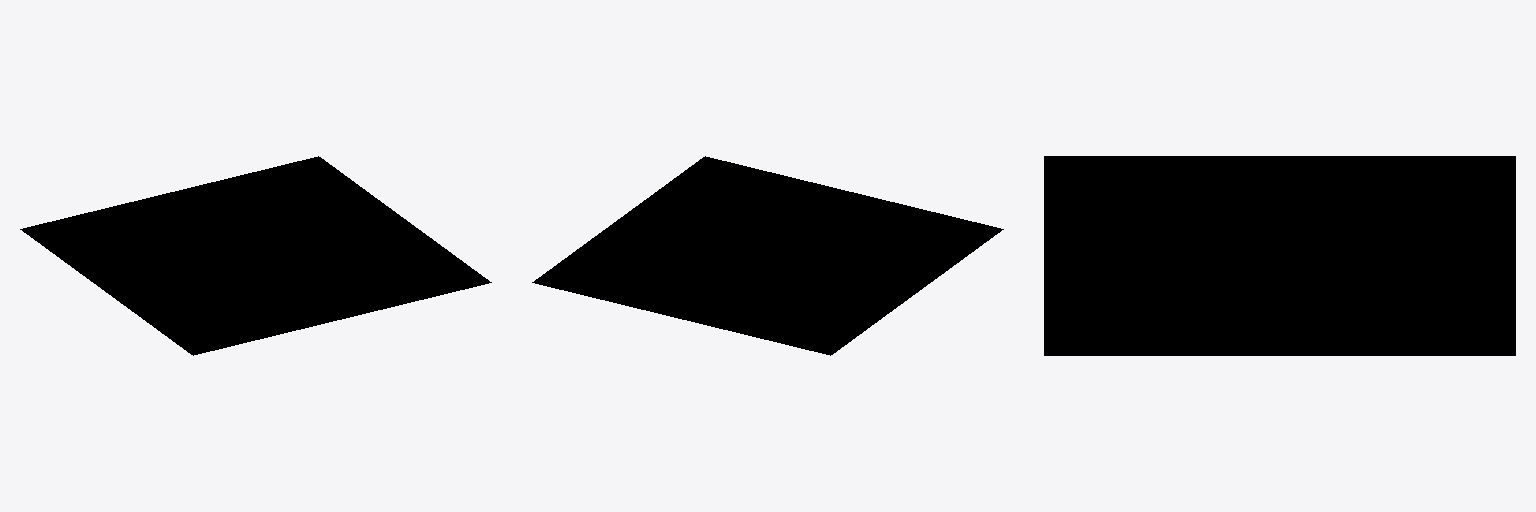
robot.urdf — plane:
<?xml version="0.0" ?>
<robot name="plane">
  <link name="planeLink">
  <contact>
      <lateral_friction value="1"/>
  </contact>
    <inertial>
      <origin rpy="0 0 0" xyz="0 0 0"/>
       <mass value=".0"/>
       <inertia ixx="0" ixy="0" ixz="0" iyy="0" iyz="0" izz="0"/>
    </inertial>
    <visual>
      <origin rpy="0 0 0" xyz="0 0 0"/>
      <geometry>
				<box size="6.5 6.5 0.01"/>
      </geometry>
       <material name="white">
        <color rgba="0 0 0 1"/>
      </material>
    </visual>
    <collision>
      <origin rpy="0 0 0" xyz="0 0 0"/>
      <geometry>
	 	<box size="6.5 6.5 0.03"/>
      </geometry>
    </collision>
  </link>
</robot>

--- What the picture shows (computed from the rendered views, not written in the file) ---
3 views of the same robot in one strip: view 1: azimuth 30°, elevation 25°; view 2: azimuth 150°, elevation 25°; view 3: azimuth 270°, elevation 25° (orthographic).
Model plane with 1 links and 0 joints (none), rooted at planeLink, posed all joints at 0.
Links seen in each view (by area): view 1: planeLink; view 2: planeLink; view 3: planeLink.
Link boxes in pixels (left/top/right/bottom): planeLink: left=20, top=156, right=491, bottom=355; planeLink: left=532, top=156, right=1003, bottom=355; planeLink: left=1044, top=156, right=1515, bottom=355.
Size in the robot's own frame: 6.5 by 6.5 by 0.01 metres.
Geometry: primitives only (box / cylinder / sphere), no mesh files.
